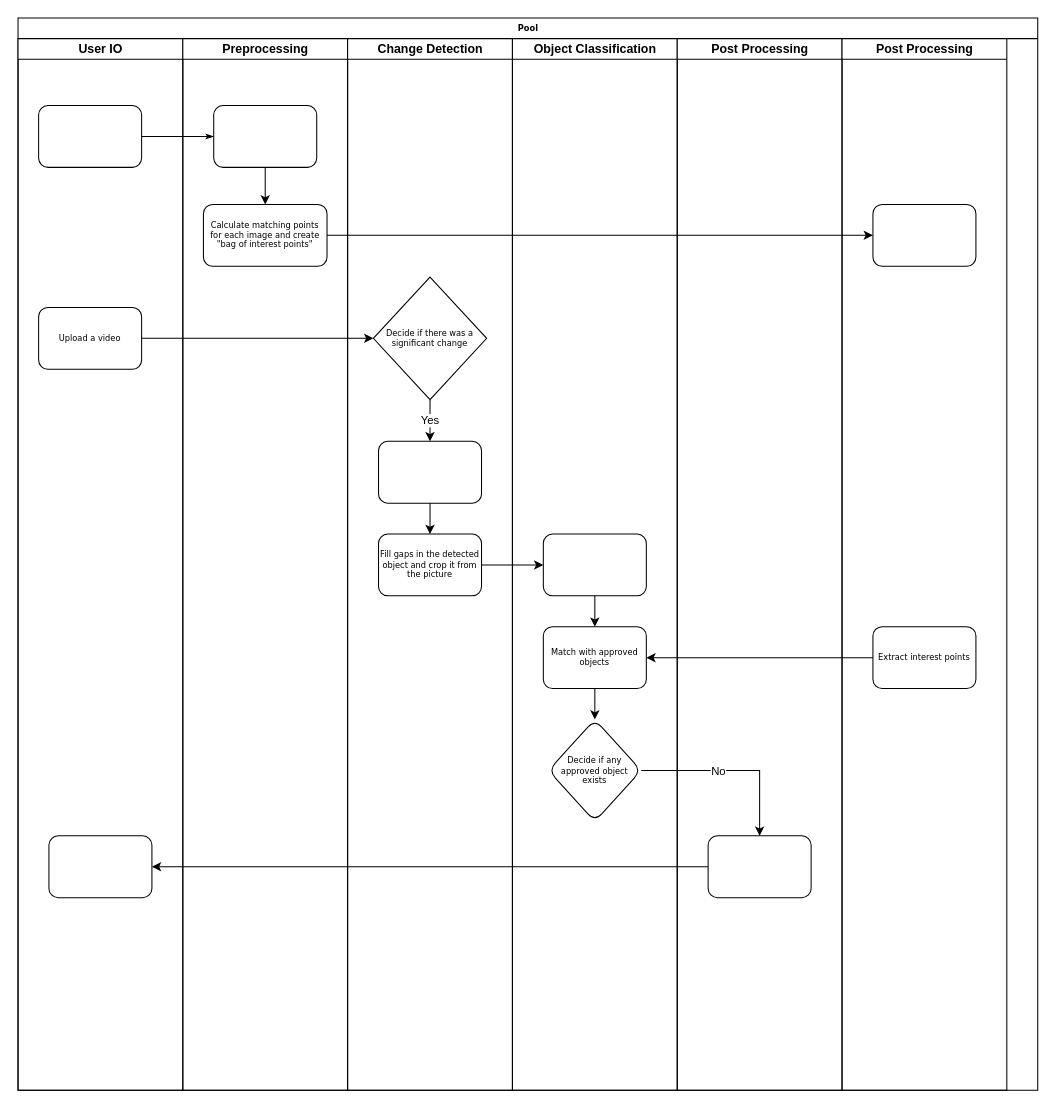
This 1056x1108 diagram has some shape labels left out. Each missing label, with the centre of its shape:
Alert on penetration: [100,866]
Find interesting points: [594,564]
Find interesting points in each picture: [265,136]
Generate a red frame around the detected object: [759,866]
Keep the frame that includes most of the object: [429,471]
Store "bag of interest points" for each object: [924,234]
Upload at least 10 labeled pictures for each approved object: [90,136]
